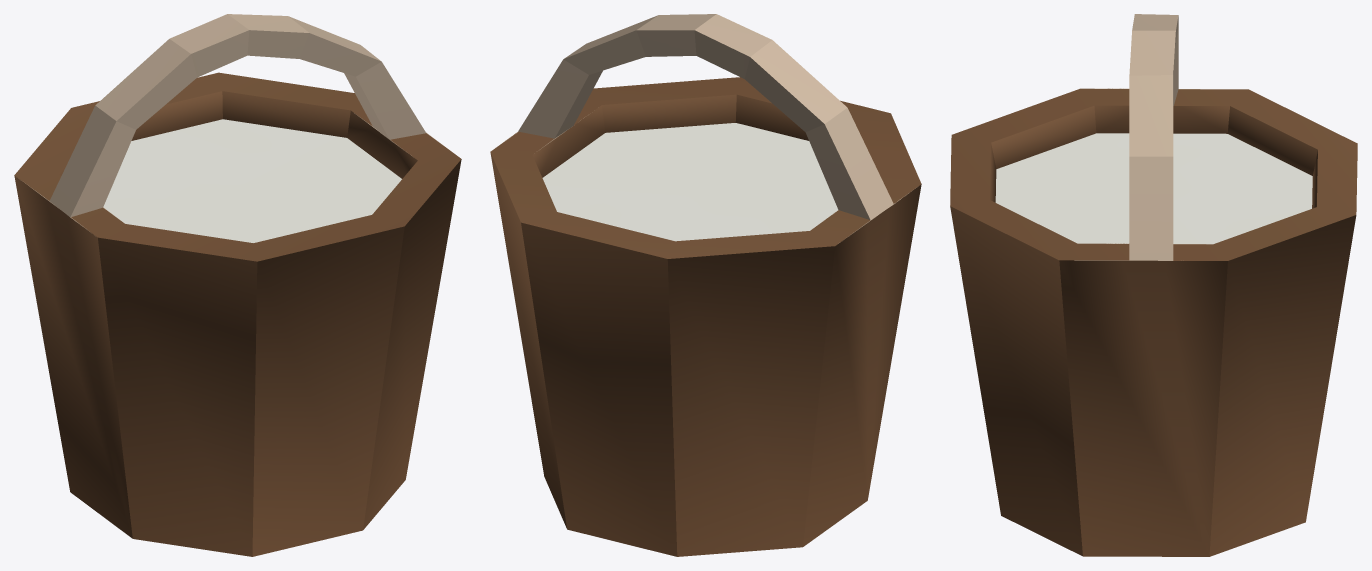
File: bucket1.fbx
3 views of the same model, side by side, from view 1: azimuth 30°, elevation 25°; view 2: azimuth 150°, elevation 25°; view 3: azimuth 270°, elevation 25° (orthographic).
Visible parts, largest first — view 1: bucket; view 2: bucket; view 3: bucket.
Part boxes in pixels (<box>): bucket: <box>14,14,461,556</box>; bucket: <box>490,14,921,556</box>; bucket: <box>950,14,1357,556</box>.
Bounding box in the file's own units: 230 × 287 × 230.
